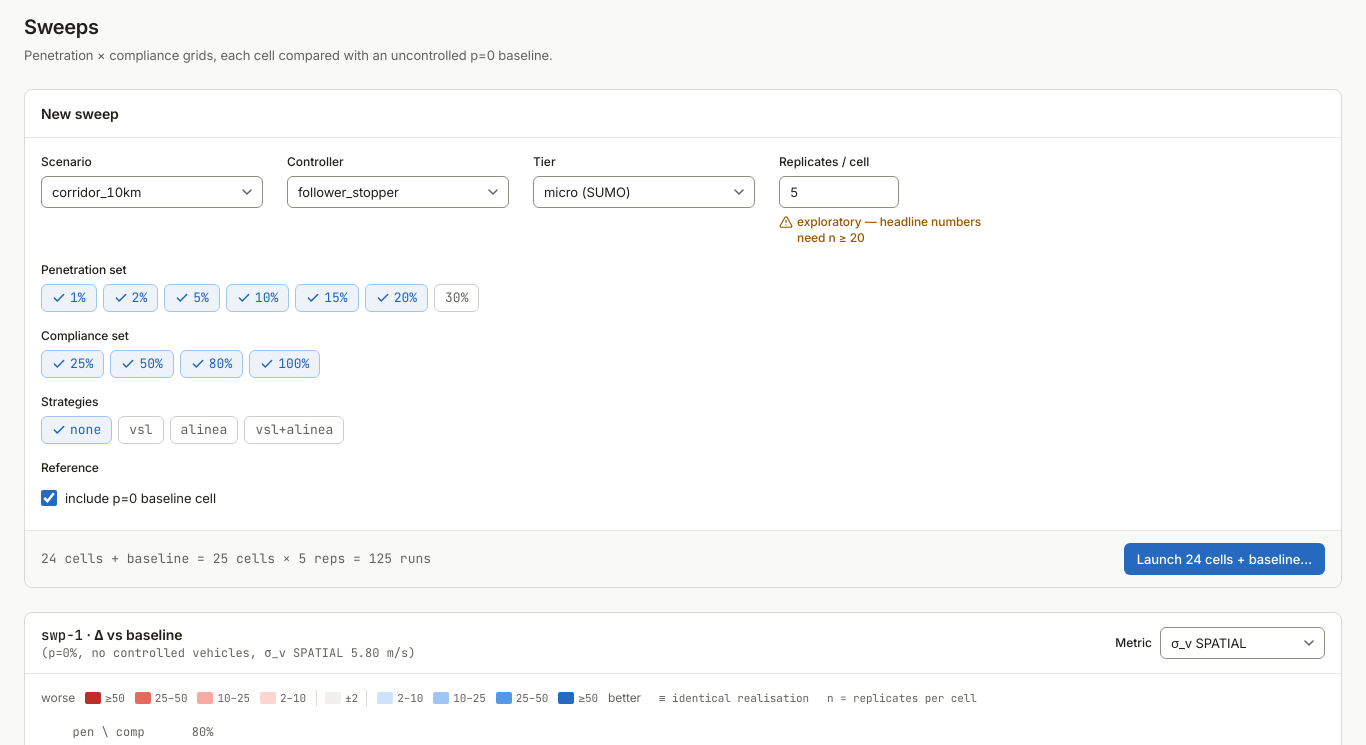
Test: SweepsView (real API shapes) › renders deltas from Metrics-keyed aggregates and labels the baseline cell
Expected: the text "(p=0%, no controlled vehicles, σ_v SPATIAL 5.80 m/s)" is shown, [41, 645, 416, 661]
# switching metric re-reads the aggregate under the real key
Select "THROUGHPUT" in the dropdown labelled "Metric" at point(1242, 643), box [1160, 627, 1325, 659]
(page scrolled)
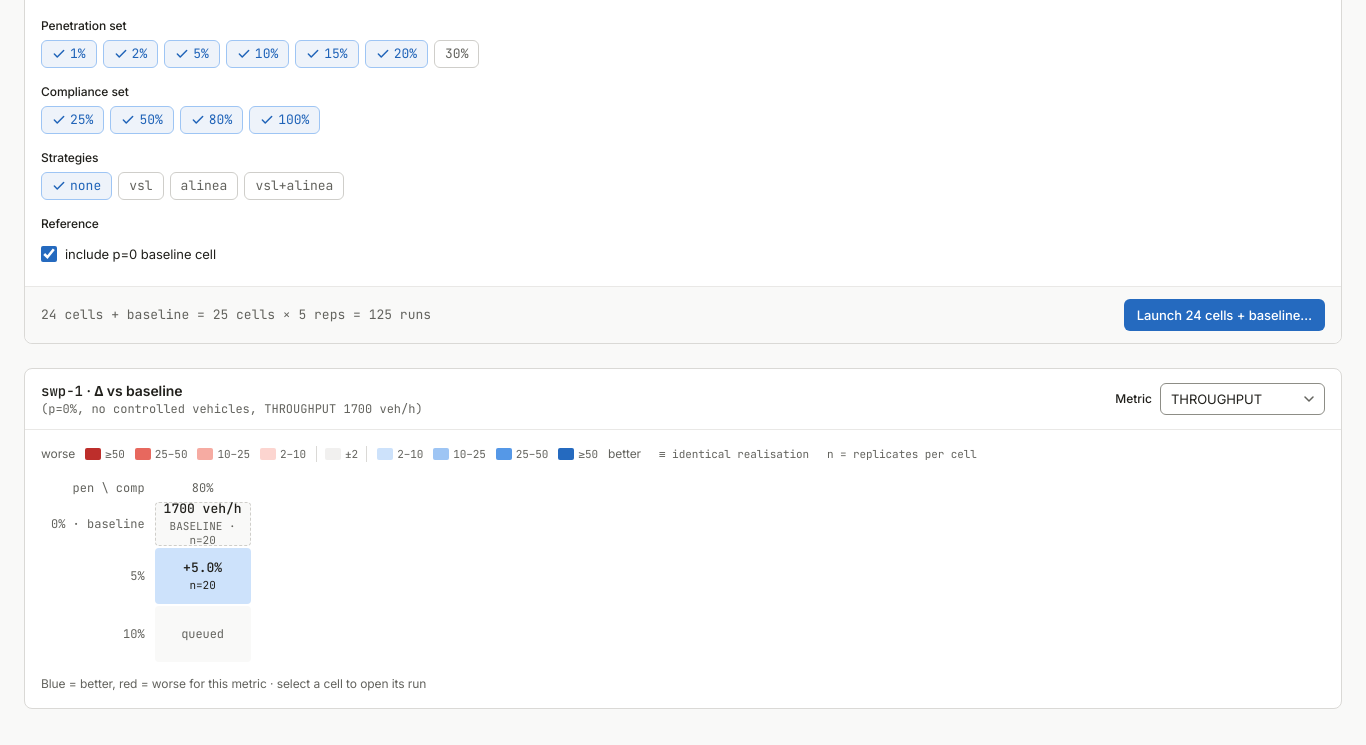
Result: the text "+5.0%" is shown at [183, 560, 222, 576]
Result: the text "1700 veh/h" is shown at [164, 501, 242, 517]
